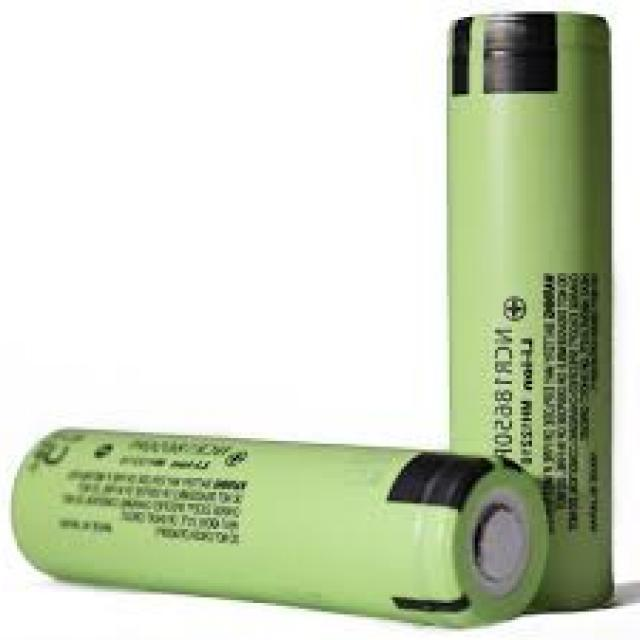battery: (14, 429, 552, 626), (440, 11, 615, 610)
